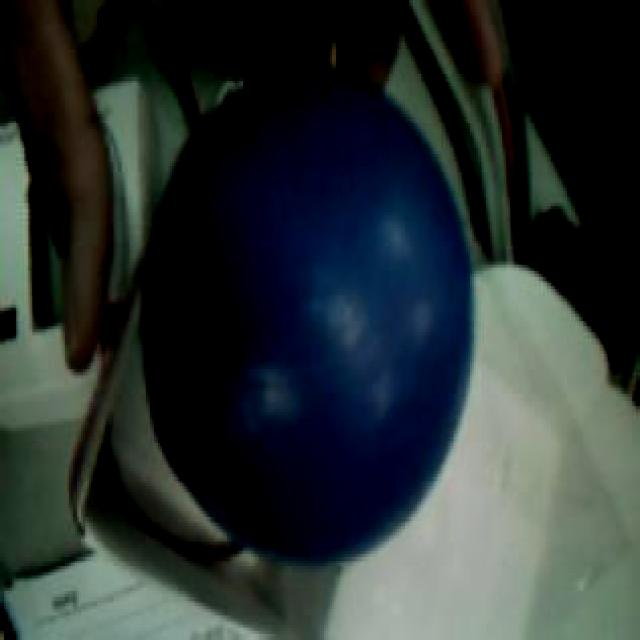BallPurple: (143, 70, 471, 567)
